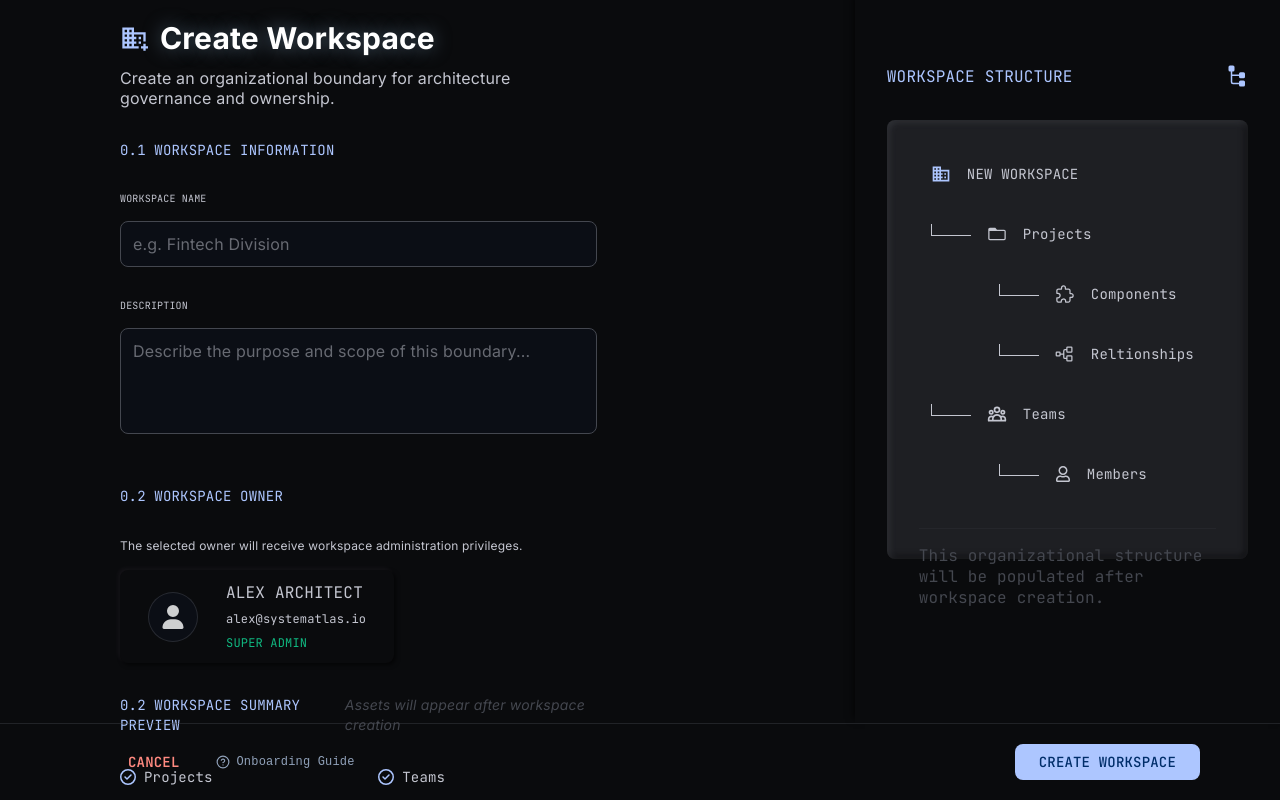
Workspace Creation Flow › validates minimum length constraints on name and description
Type "ab" into the field labelled "Workspace Name" at point(358, 244), box [120,221,596,267]
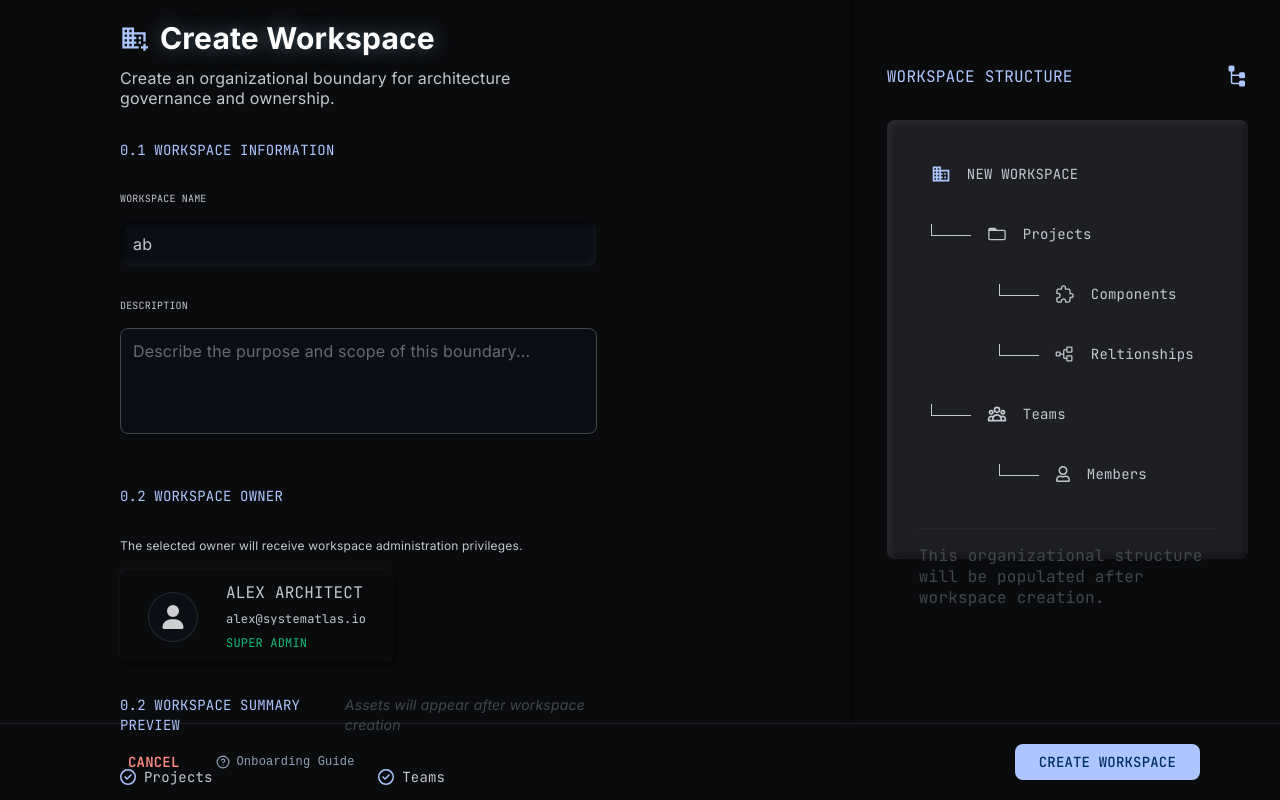
Type "short desc" into the text box labelled "Description" at point(358, 381), box [120,328,596,434]
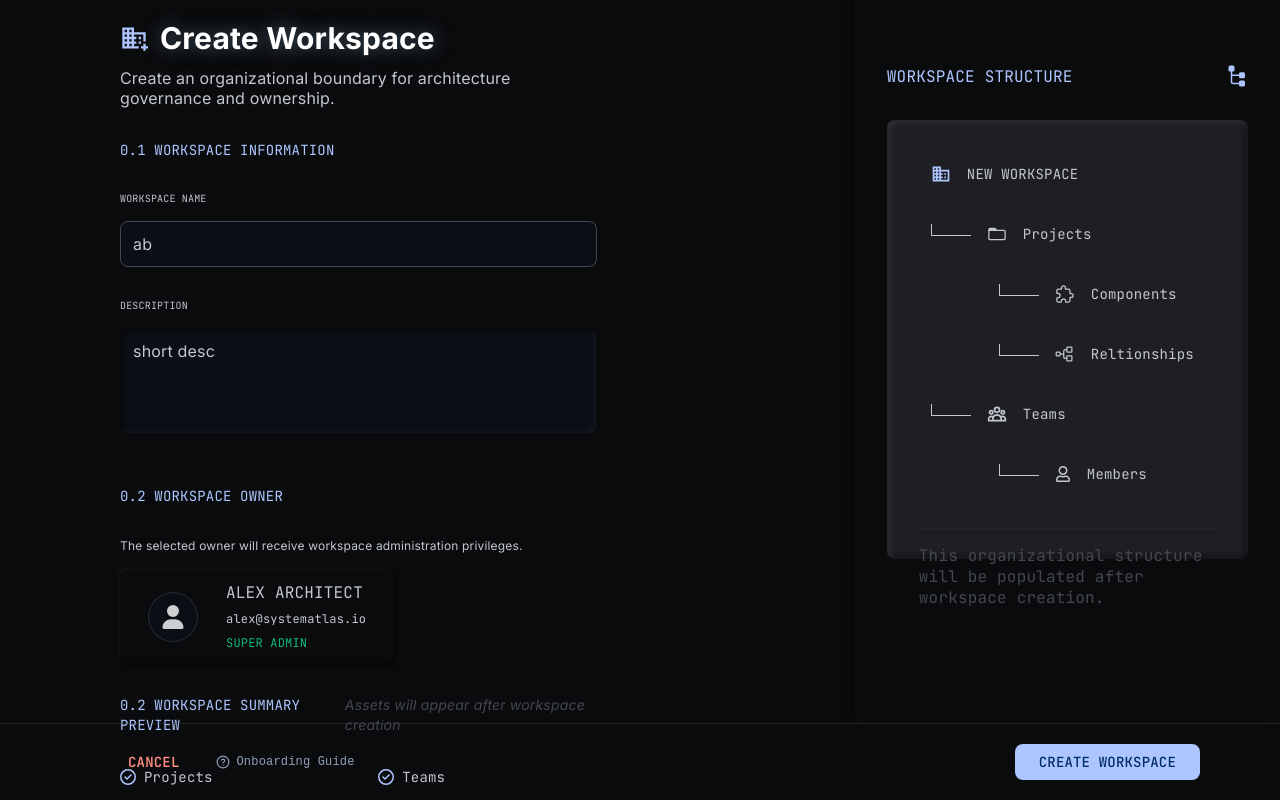
Click the button "Create Workspace" at point(1107, 762), box [1015,744,1200,780]
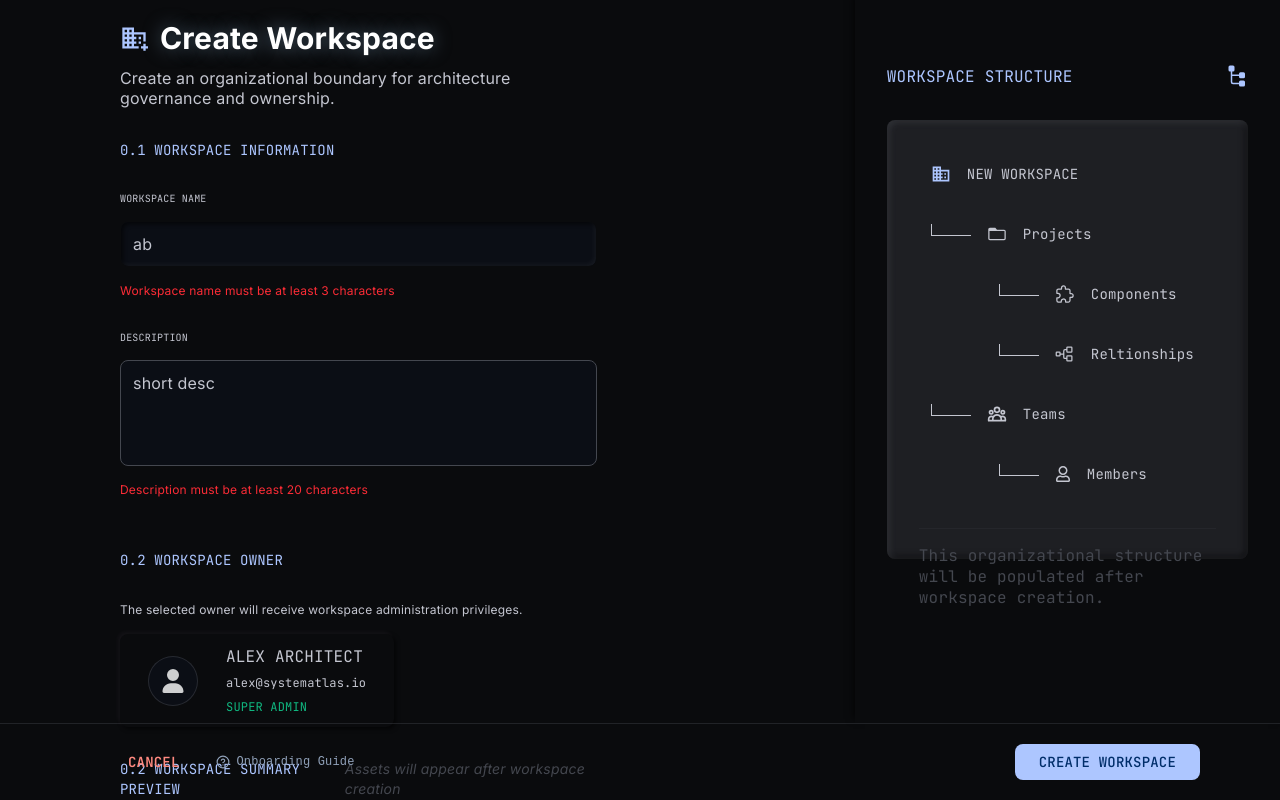
expect the text "Workspace name must be at least 3 characters" is shown: met, box [120,283,395,298]
expect the text "Description must be at least 20 characters" is shown: met, box [120,482,368,497]
